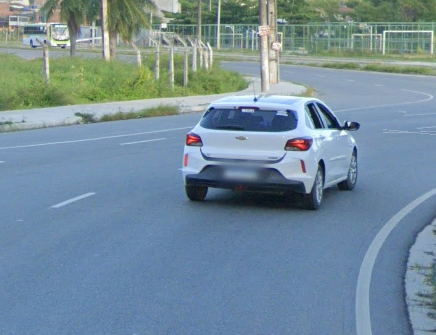car: (179, 78, 368, 223)
